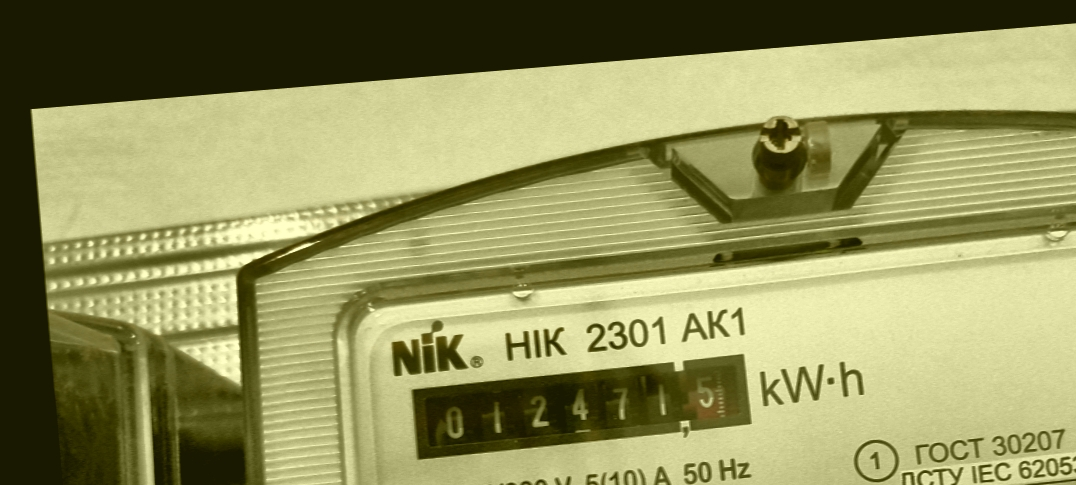0: (441, 401, 467, 439)
1: (489, 397, 504, 433), (654, 379, 668, 416)
2: (528, 390, 551, 428)
4: (569, 383, 590, 421)
5: (693, 369, 718, 409)
7: (608, 381, 632, 421)
screen: (400, 342, 764, 467)
